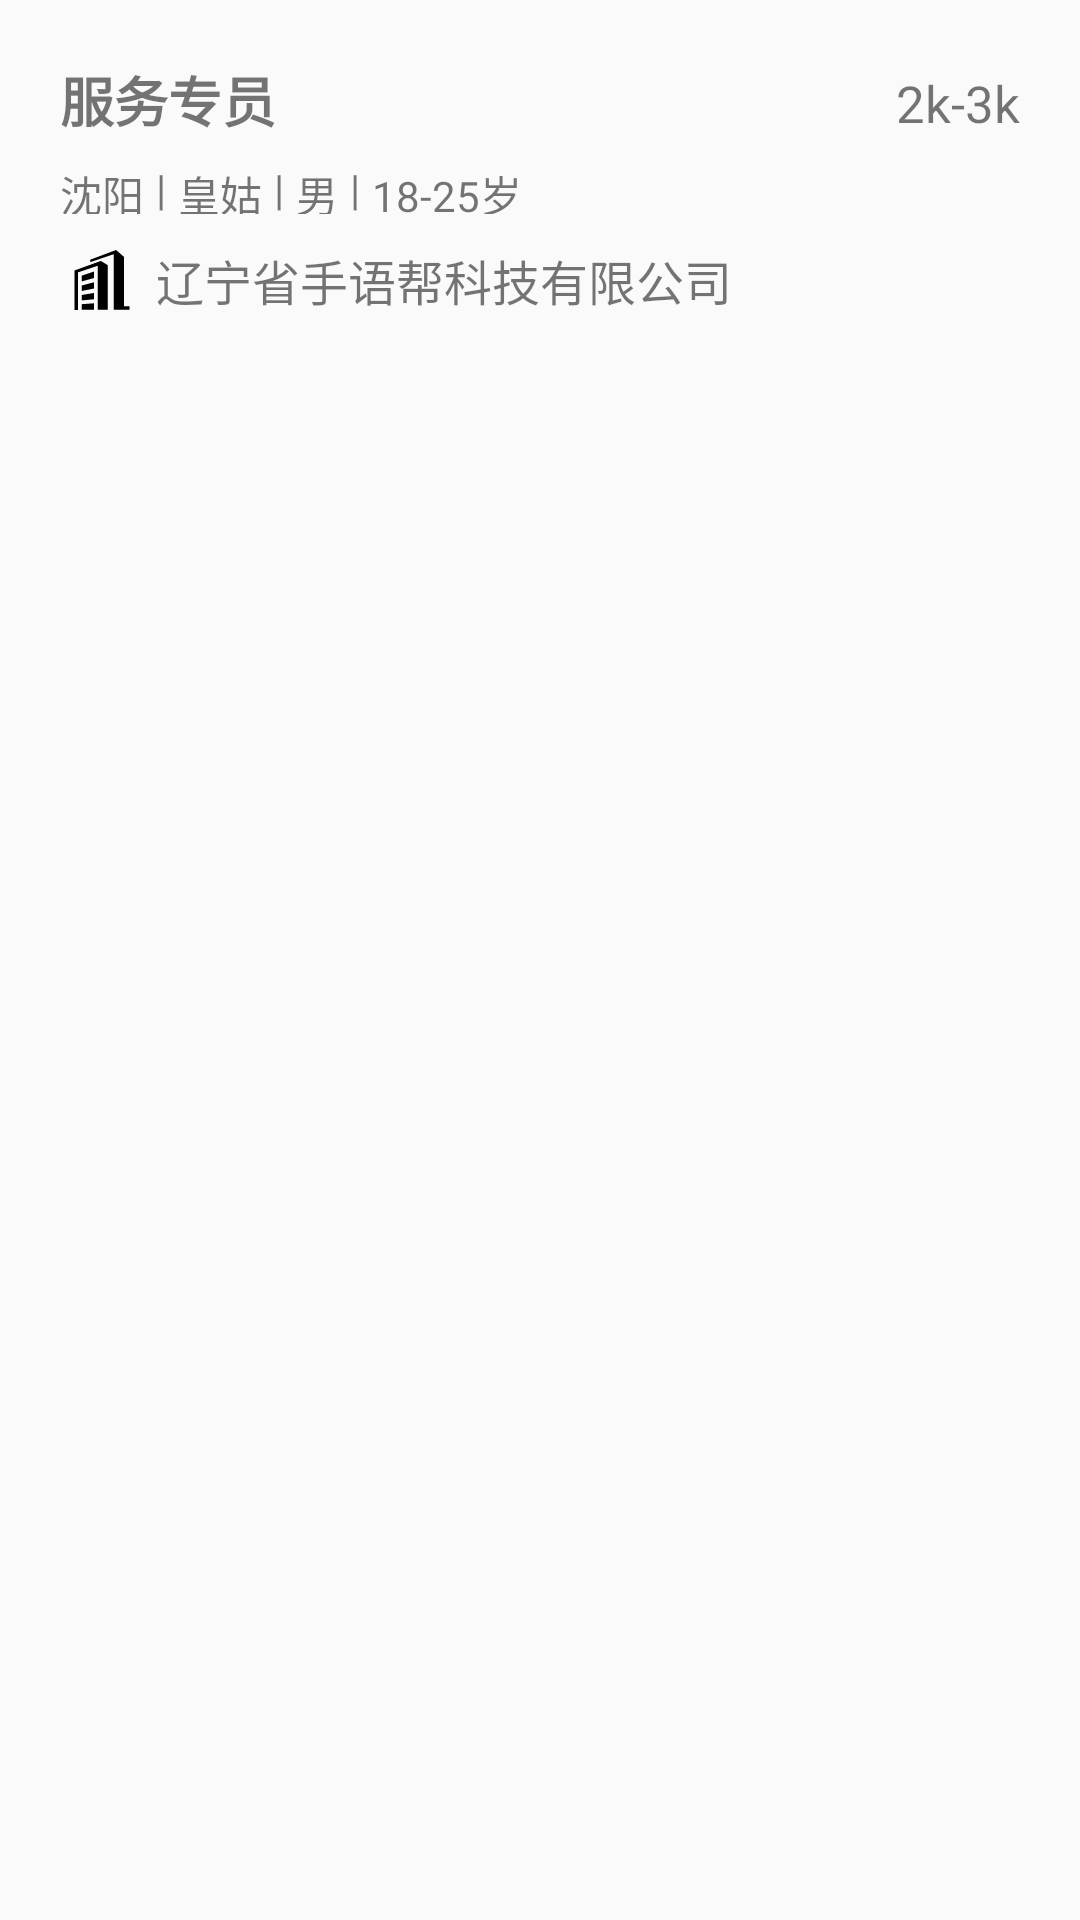

Screen size 1080 × 1920. Icon name, then its center in pixels as [x,y]:
enterprise: [102,280]
